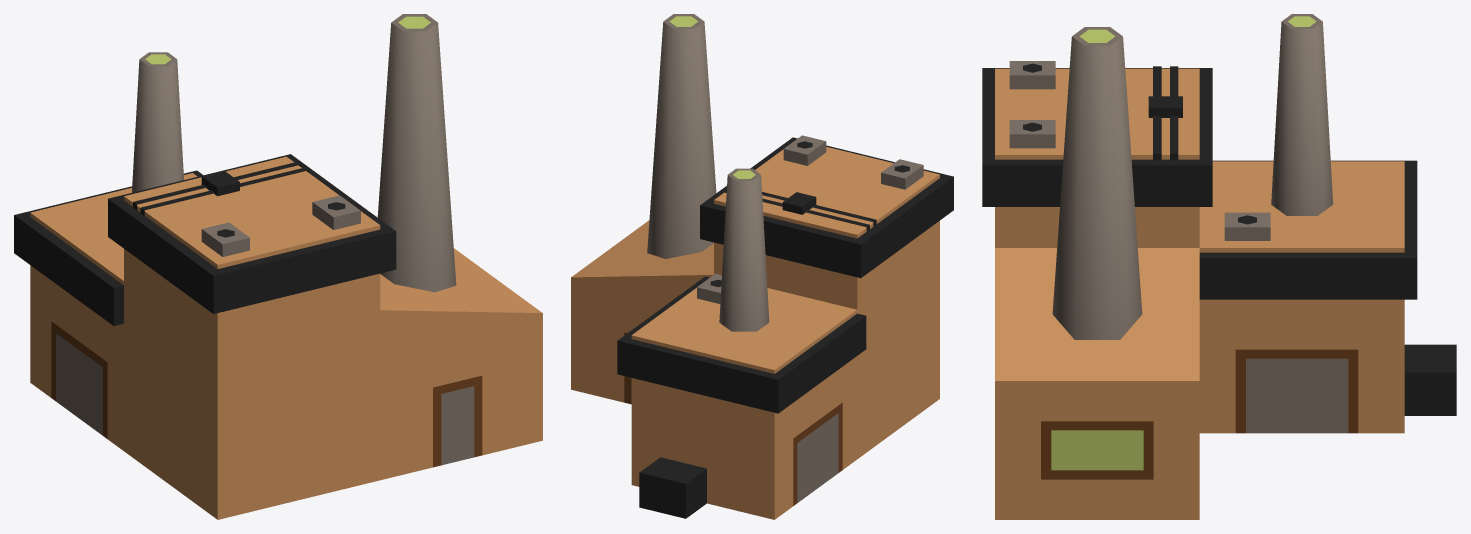
The model's file is Factory.fbx.
The picture shows the model from 3 angles, left to right: view 1: azimuth 30°, elevation 25°; view 2: azimuth 150°, elevation 25°; view 3: azimuth 270°, elevation 25°; orthographic projection. The views are drawn at different scales.
Visible parts, largest first — view 1: Factory; view 2: Factory; view 3: Factory.
Boxes of the visible parts, x1=… form: Factory: x1=14, y1=14, x2=542, y2=519; Factory: x1=571, y1=14, x2=953, y2=519; Factory: x1=982, y1=14, x2=1456, y2=519.
Size of the model in its own units: 41.25 by 47.46 by 46.34.
